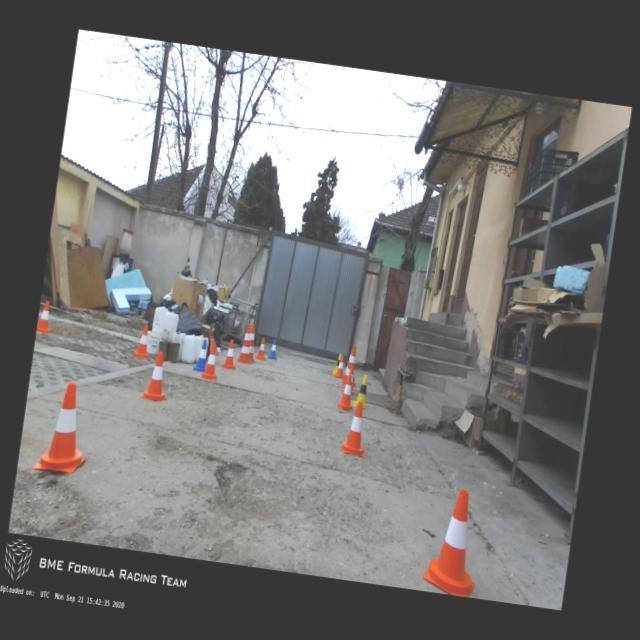blue_cone: (192, 340, 210, 372), (267, 338, 280, 360)
large_orange_cone: (341, 344, 361, 386), (236, 324, 256, 364), (247, 325, 260, 363)
orange_cone: (421, 484, 489, 598), (32, 378, 97, 476), (340, 400, 372, 457), (140, 351, 173, 402), (200, 344, 222, 381), (337, 374, 358, 412), (132, 324, 153, 358), (36, 300, 54, 334), (222, 339, 240, 371), (255, 336, 268, 361), (334, 356, 347, 380)
yellow_cone: (353, 372, 373, 410), (332, 353, 342, 376)
